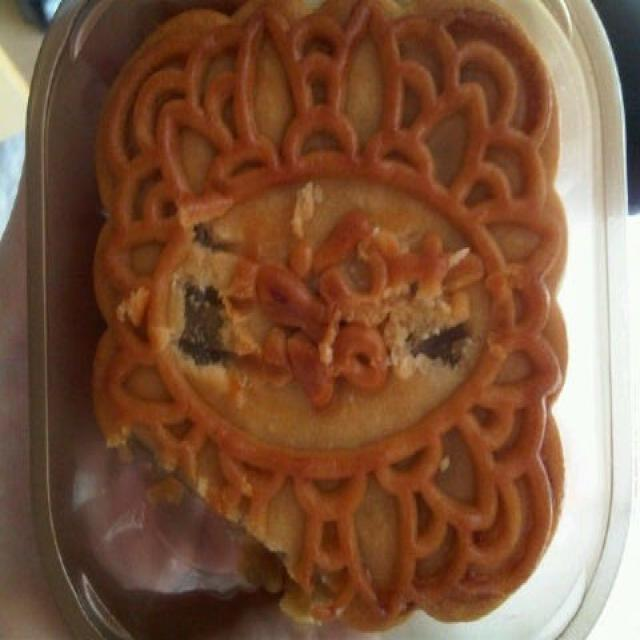蛋糕甜品: (61, 12, 610, 618)
